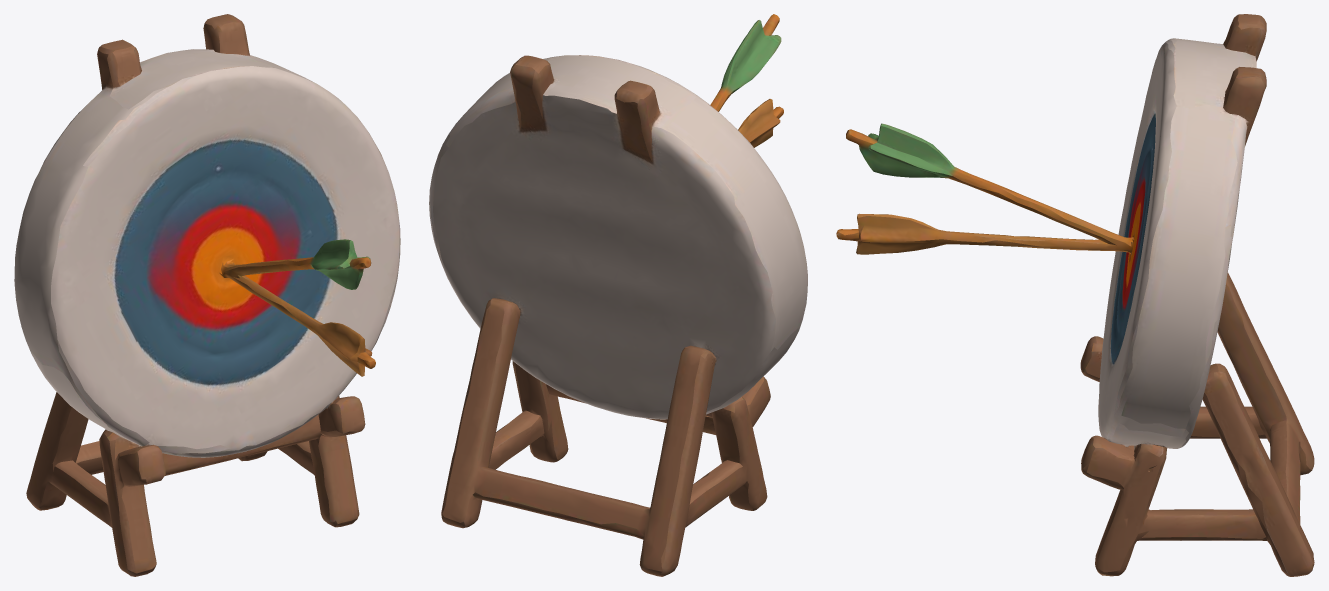
Rendered from sz-archery-target.glb.
3 views of the same model, side by side, from view 1: azimuth 30°, elevation 25°; view 2: azimuth 150°, elevation 25°; view 3: azimuth 270°, elevation 25° (orthographic). The views are drawn at different scales.
Visible parts, largest first — view 1: geometry_0; view 2: geometry_0; view 3: geometry_0.
Boxes of the visible parts, left/top/right/bottom form: geometry_0: left=14, top=14, right=400, bottom=576; geometry_0: left=429, top=14, right=807, bottom=576; geometry_0: left=836, top=14, right=1314, bottom=576.
Bounding box in the file's own units: 0.7899 × 1 × 0.9079.
1 material, 1 textured.
